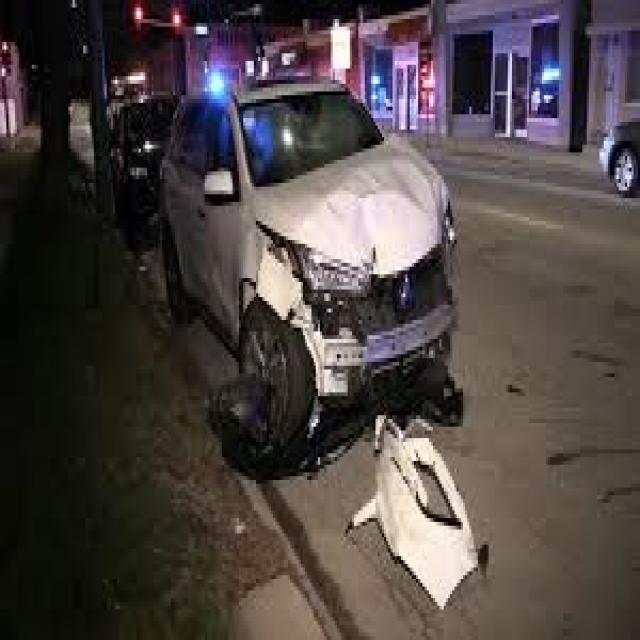accident: (164, 99, 495, 491)
